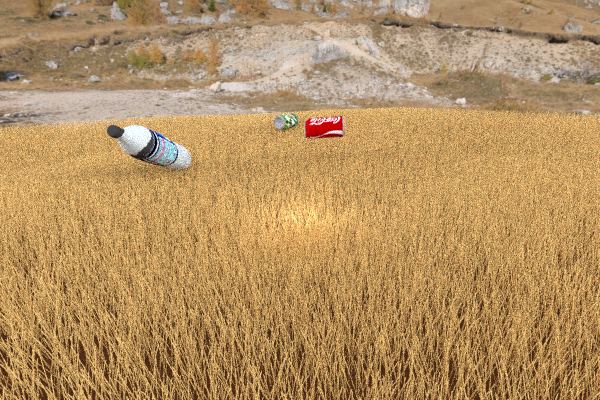Plastic Bottle: (106, 125, 191, 171), (304, 115, 344, 139), (273, 113, 298, 130)
